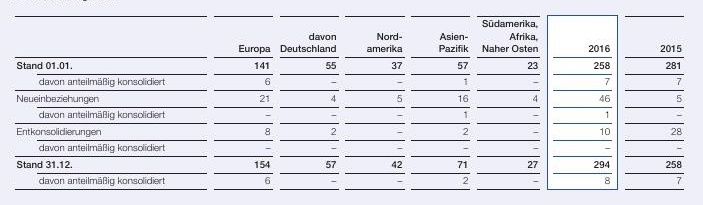table: (0, 0, 703, 205)
